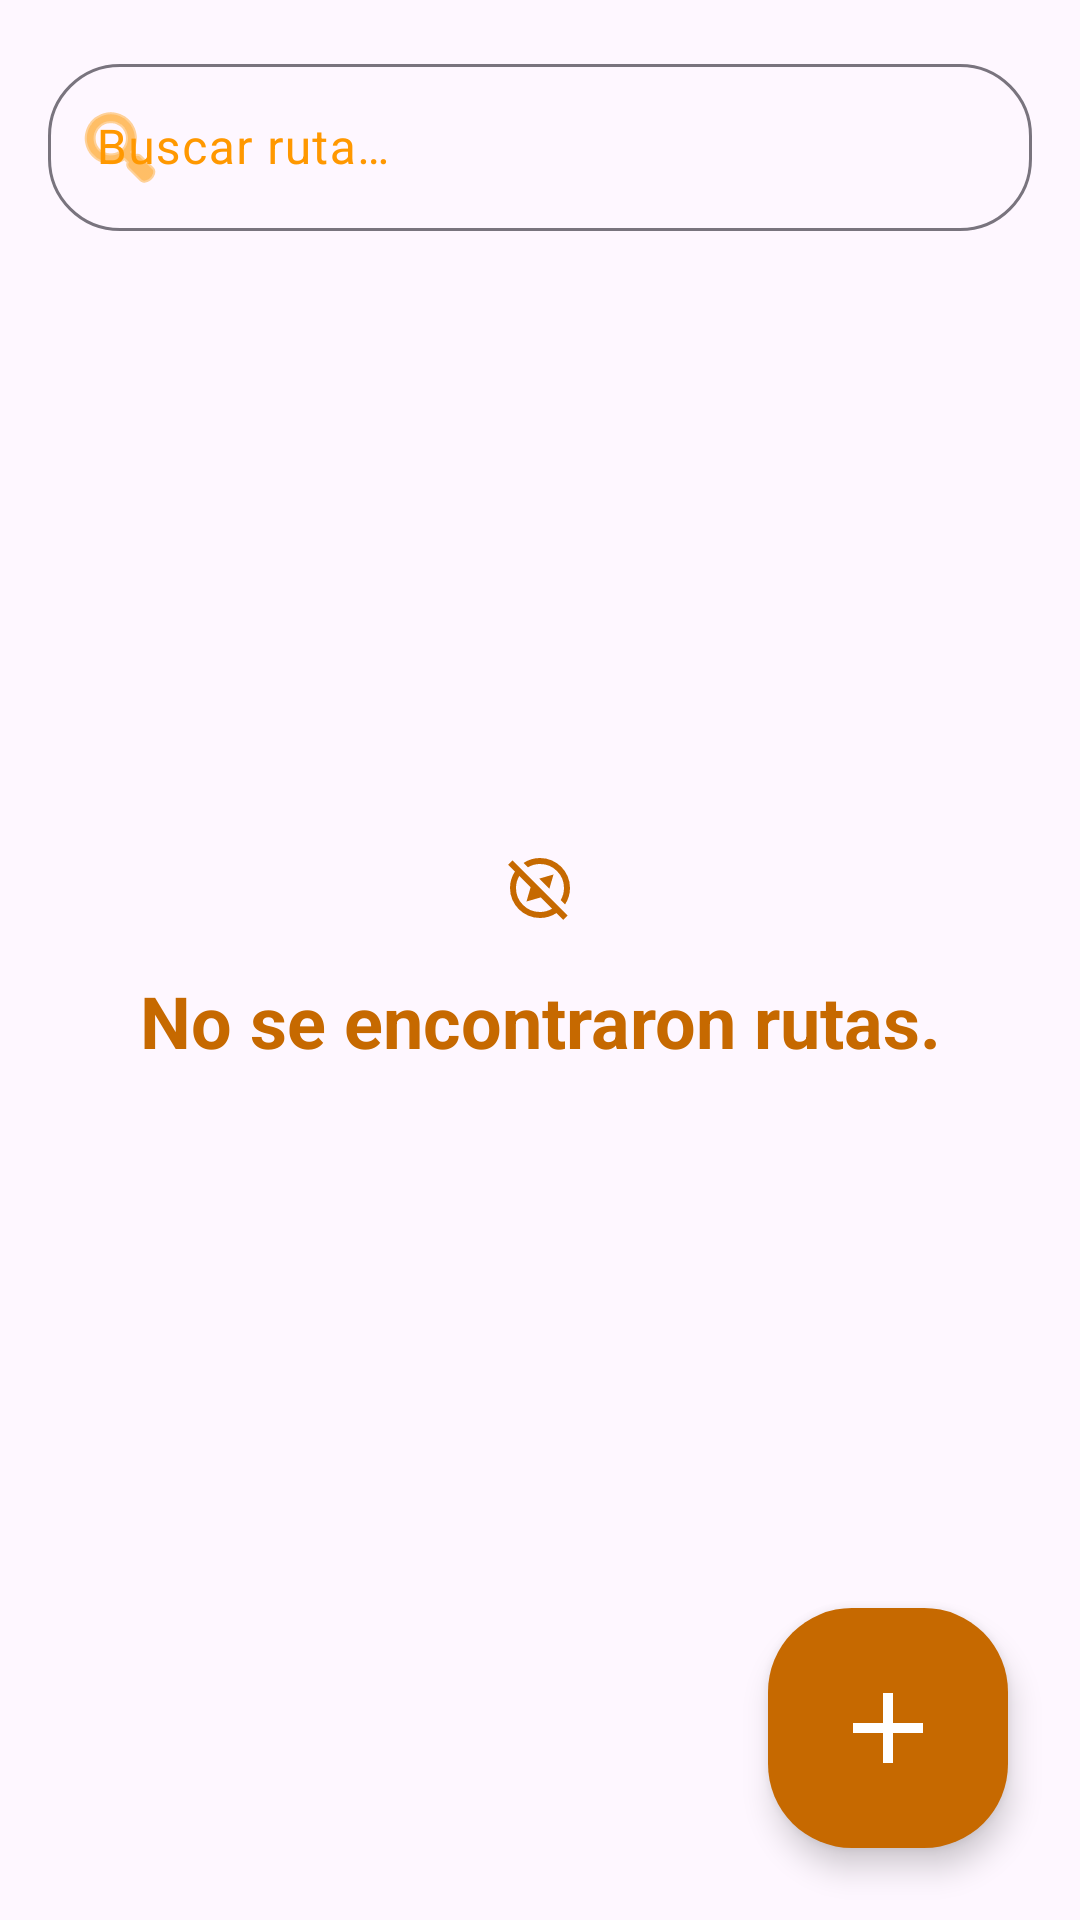

Where icons sit on this 1080x1920 app screen, as region(x1, y1, x2, y2):
Añadir: region(768, 1608, 1008, 1848)
